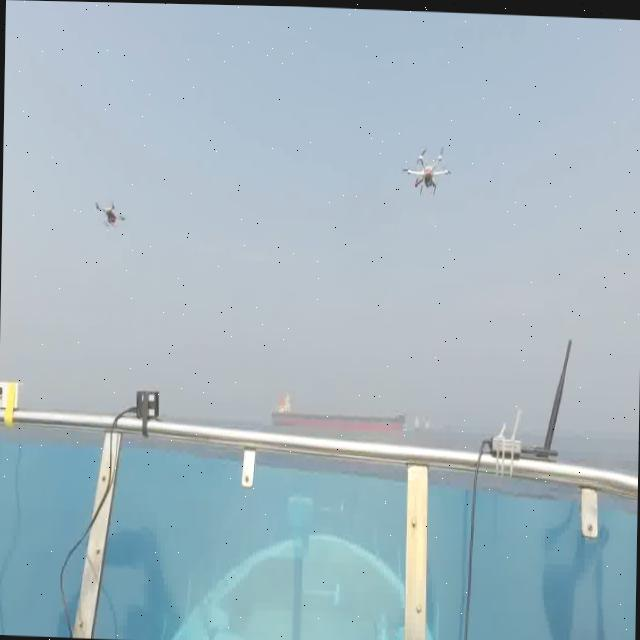drone: (401, 137, 450, 194), (92, 196, 126, 231)
